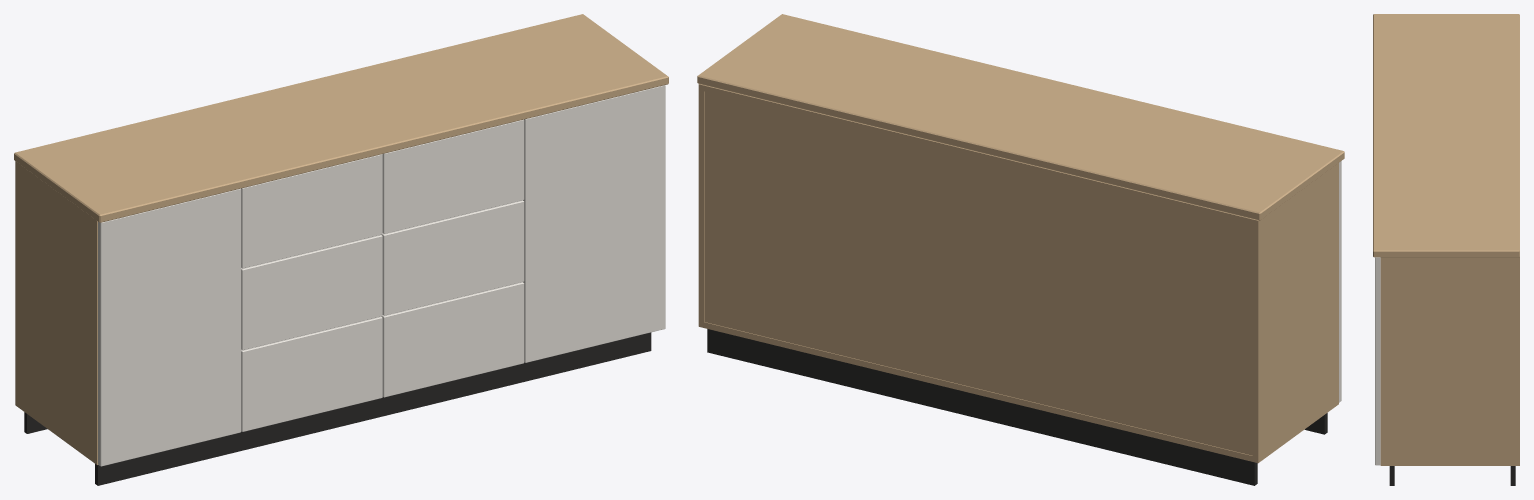
The model's file is 28_komoda_180_d_sz_sz_d.glb.
3 renders of one model, left to right at view 1: azimuth 30°, elevation 25°; view 2: azimuth 150°, elevation 25°; view 3: azimuth 270°, elevation 25°, orthographic. The views are drawn at different scales.
Visible parts, largest first — view 1: Wierzch, Front_drzwi_1, Front_drzwi_8, Korpus, Front_szuflada_7, Front_szuflada_6, Front_szuflada_3, Front_szuflada_4, Front_szuflada_5, Front_szuflada_2, Cokol; view 2: Korpus, Wierzch, Cokol, Front_drzwi_1; view 3: Wierzch, Korpus, Front_drzwi_8, Cokol.
Boxes of the visible parts, x1,y1,x2,y2 form: Wierzch: (14, 14, 668, 222); Front_drzwi_1: (98, 188, 241, 466); Front_drzwi_8: (523, 85, 665, 362); Korpus: (15, 161, 98, 464); Front_szuflada_7: (381, 282, 524, 397); Front_szuflada_6: (381, 200, 524, 315); Front_szuflada_3: (241, 235, 382, 350); Front_szuflada_4: (241, 316, 382, 431); Front_szuflada_5: (382, 119, 524, 233); Front_szuflada_2: (241, 154, 382, 268); Cokol: (24, 332, 651, 485); Korpus: (698, 84, 1338, 463); Wierzch: (697, 14, 1344, 220); Cokol: (707, 329, 1327, 485); Front_drzwi_1: (1339, 161, 1341, 402); Wierzch: (1373, 14, 1519, 257); Korpus: (1380, 257, 1519, 465); Front_drzwi_8: (1375, 257, 1380, 465); Cokol: (1389, 466, 1515, 485).
Bounding box in the file's own units: 1.81 × 0.85 × 0.474.
